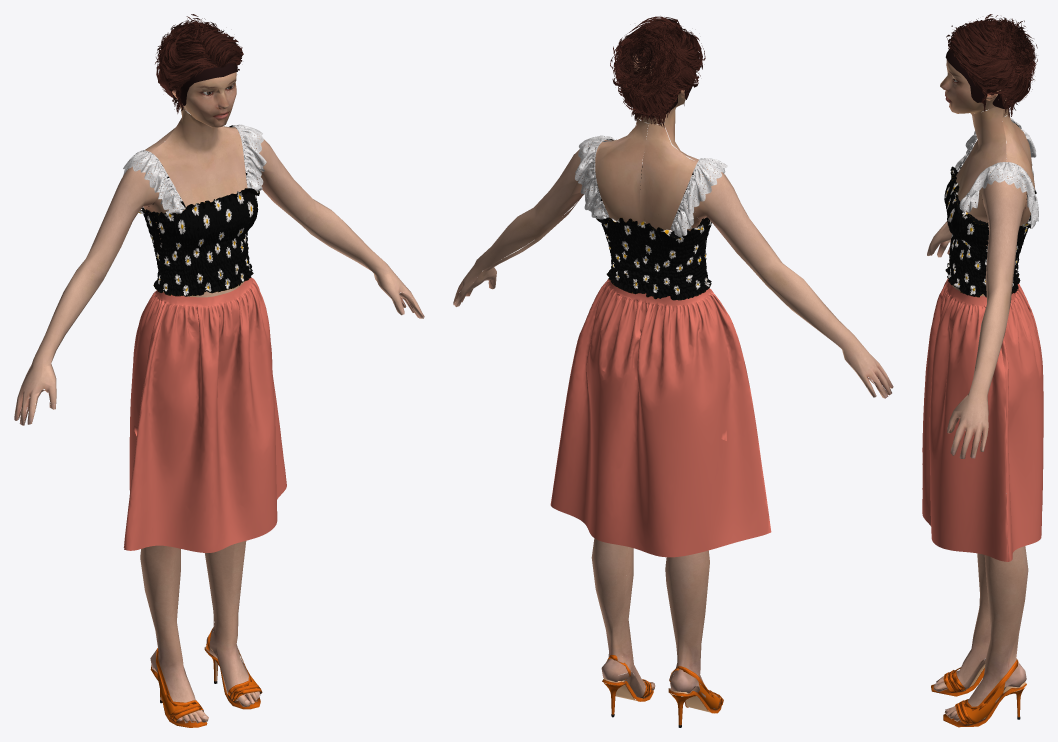
The picture shows the model from 3 angles, left to right: view 1: azimuth 30°, elevation 25°; view 2: azimuth 150°, elevation 25°; view 3: azimuth 270°, elevation 25°; orthographic projection. The views are drawn at different scales.
Visible parts, largest first — view 1: Cloth, Avatar; view 2: Cloth, Avatar; view 3: Cloth, Avatar.
Boxes of the visible parts, x1,y1,x2,y2 form: Cloth: [123, 124, 286, 552]; Avatar: [14, 14, 424, 727]; Cloth: [550, 135, 771, 557]; Avatar: [453, 16, 893, 727]; Cloth: [922, 116, 1043, 561]; Avatar: [927, 14, 1037, 727].
Size of the model in its own units: 1.09 by 1.7 by 0.2716.
Materials: 23 (22 with a texture image).
